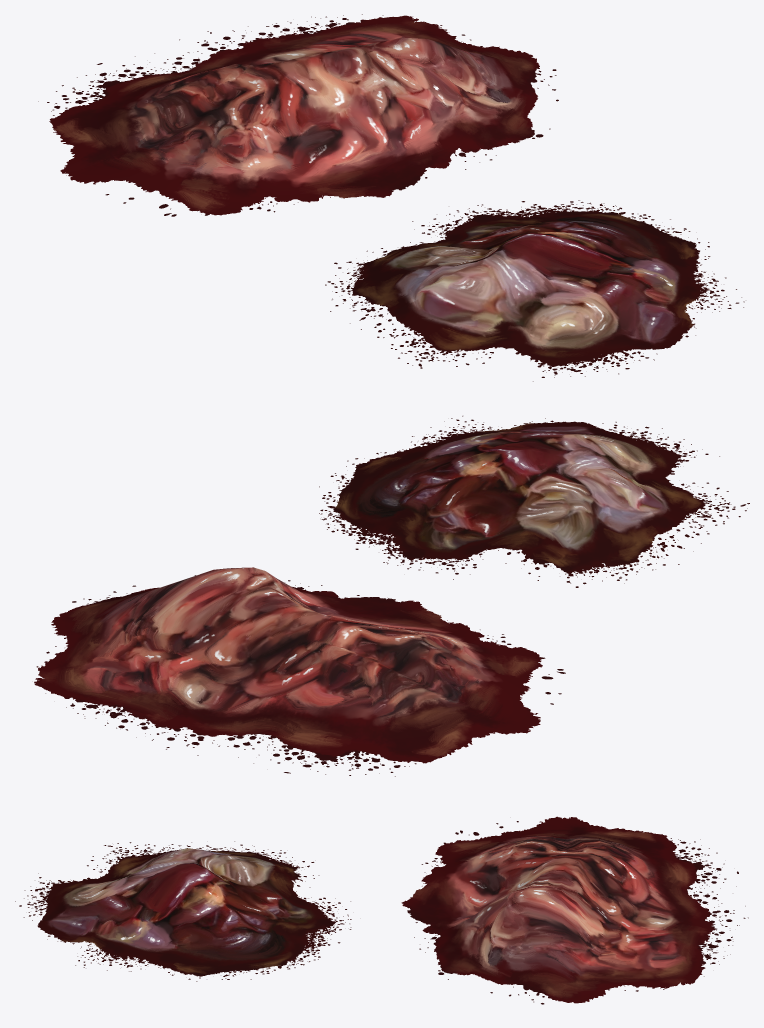
The model's file is Organs.fbx.
3 renders of one model, top to bottom at view 1: azimuth 30°, elevation 25°; view 2: azimuth 150°, elevation 25°; view 3: azimuth 270°, elevation 25°, orthographic. The views are drawn at different scales.
Parts seen in each view (by area): view 1: decal_piles_of_organs, decal_piles_of_organs2; view 2: decal_piles_of_organs, decal_piles_of_organs2; view 3: decal_piles_of_organs, decal_piles_of_organs2.
Boxes of the visible parts, box(x1,y1,x2,y2) form: decal_piles_of_organs: box(38, 14, 558, 216); decal_piles_of_organs2: box(325, 200, 744, 381); decal_piles_of_organs: box(34, 567, 565, 776); decal_piles_of_organs2: box(319, 416, 749, 587); decal_piles_of_organs: box(401, 816, 748, 1004); decal_piles_of_organs2: box(15, 841, 351, 981).
Size of the model in its own units: 206 by 24.3 by 308.
Materials: 2 (2 with a texture image).
